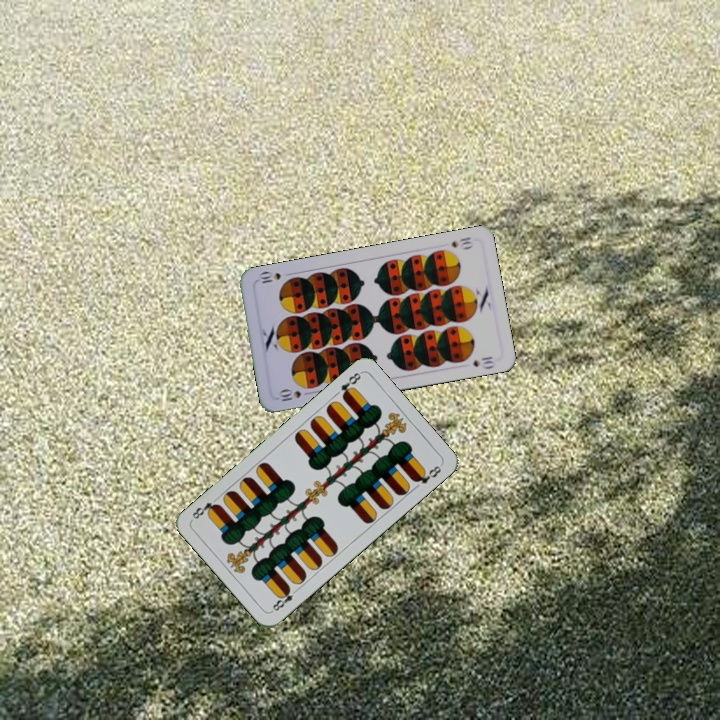E8: (267, 583, 302, 614), (336, 368, 364, 401)
S10: (274, 386, 314, 405), (447, 233, 475, 251)
